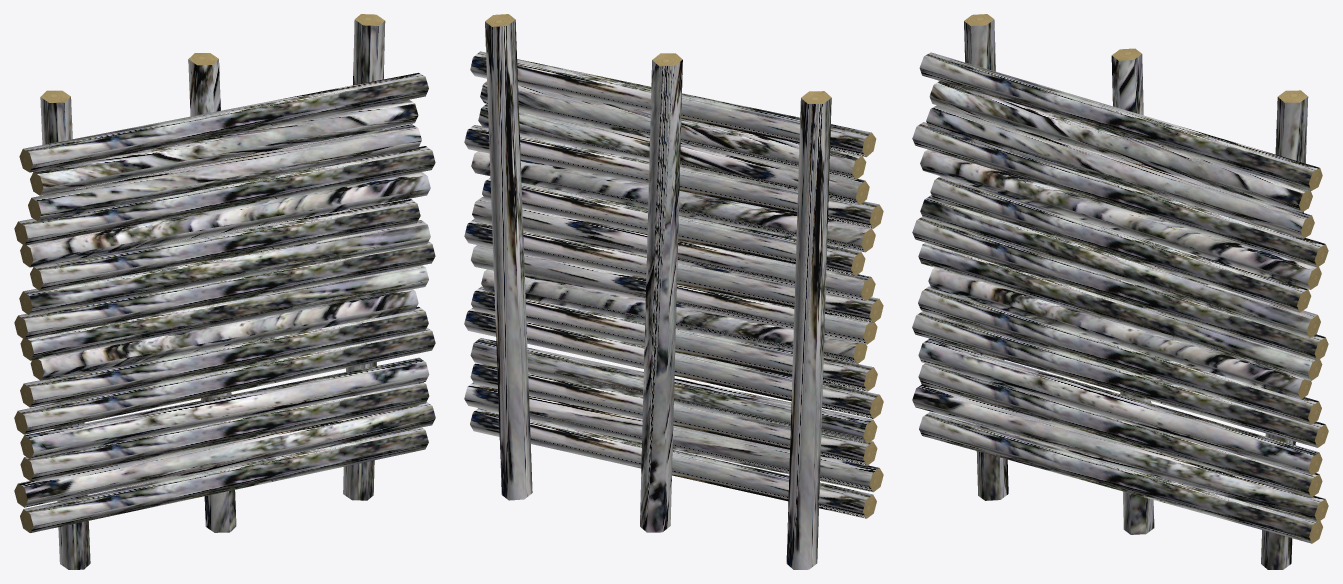
The model's file is boat_000051.obj.
The picture shows the model from 3 angles, left to right: view 1: azimuth 30°, elevation 25°; view 2: azimuth 150°, elevation 25°; view 3: azimuth 330°, elevation 25°; orthographic projection.
Visible parts, largest first — view 1: Cylinder.015_Cylinder.056, Cylinder.007_Cylinder.047, Cylinder.012_Cylinder.053, Cylinder.013_Cylinder.054, Cylinder.010_Cylinder.050, Cylinder.004_Cylinder.044, Cylinder.001_Cylinder.005, Cylinder.005_Cylinder.045, Cylinder.000, Cylinder.011_Cylinder.051, Cylinder.006_Cylinder.046, Cylinder.003_Cylinder.043 (+7 smaller); view 2: Cylinder.017_Cylinder.058, Cylinder.016_Cylinder.057, Cylinder.018_Cylinder.059, Cylinder.007_Cylinder.047, Cylinder.015_Cylinder.056, Cylinder.013_Cylinder.054, Cylinder.012_Cylinder.053, Cylinder.010_Cylinder.050, Cylinder.005_Cylinder.045, Cylinder.011_Cylinder.051, Cylinder.000, Cylinder.001_Cylinder.005 (+7 smaller); view 3: Cylinder.015_Cylinder.056, Cylinder.007_Cylinder.047, Cylinder.012_Cylinder.053, Cylinder.013_Cylinder.054, Cylinder.004_Cylinder.044, Cylinder.010_Cylinder.050, Cylinder.005_Cylinder.045, Cylinder.001_Cylinder.005, Cylinder.011_Cylinder.051, Cylinder.000, Cylinder.006_Cylinder.046, Cylinder.003_Cylinder.043 (+7 smaller).
Part boxes in pixels (<box>): Cylinder.015_Cylinder.056: <box>20,357,429,459</box>; Cylinder.007_Cylinder.047: <box>19,72,428,172</box>; Cylinder.012_Cylinder.053: <box>14,402,435,507</box>; Cylinder.013_Cylinder.054: <box>20,427,428,532</box>; Cylinder.010_Cylinder.050: <box>14,327,435,434</box>; Cylinder.004_Cylinder.044: <box>28,124,421,221</box>; Cylinder.001_Cylinder.005: <box>30,199,420,290</box>; Cylinder.005_Cylinder.045: <box>14,146,435,245</box>; Cylinder.000: <box>20,172,430,267</box>; Cylinder.011_Cylinder.051: <box>20,306,428,407</box>; Cylinder.006_Cylinder.046: <box>30,99,418,195</box>; Cylinder.003_Cylinder.043: <box>19,220,430,315</box>; Cylinder.017_Cylinder.058: <box>485,14,532,500</box>; Cylinder.016_Cylinder.057: <box>640,53,682,532</box>; Cylinder.018_Cylinder.059: <box>786,91,831,569</box>; Cylinder.007_Cylinder.047: <box>470,51,876,157</box>; Cylinder.015_Cylinder.056: <box>470,338,877,443</box>; Cylinder.013_Cylinder.054: <box>470,408,876,518</box>; Cylinder.012_Cylinder.053: <box>464,382,883,492</box>; Cylinder.010_Cylinder.050: <box>464,308,883,418</box>; Cylinder.005_Cylinder.045: <box>464,125,883,228</box>; Cylinder.011_Cylinder.051: <box>471,286,877,391</box>; Cylinder.000: <box>471,151,875,252</box>; Cylinder.001_Cylinder.005: <box>482,178,865,276</box>; Cylinder.015_Cylinder.056: <box>918,338,1322,475</box>; Cylinder.007_Cylinder.047: <box>919,52,1322,190</box>; Cylinder.012_Cylinder.053: <box>912,384,1328,522</box>; Cylinder.013_Cylinder.054: <box>919,412,1322,543</box>; Cylinder.004_Cylinder.044: <box>926,105,1314,238</box>; Cylinder.010_Cylinder.050: <box>912,311,1328,447</box>; Cylinder.005_Cylinder.045: <box>912,122,1328,267</box>; Cylinder.001_Cylinder.005: <box>930,176,1311,312</box>; Cylinder.011_Cylinder.051: <box>918,286,1321,424</box>; Cylinder.000: <box>920,149,1321,289</box>; Cylinder.006_Cylinder.046: <box>929,81,1312,212</box>; Cylinder.003_Cylinder.043: <box>920,195,1320,338</box>.
Bounding box in the file's own units: 5.89 × 6.54 × 0.8089.
